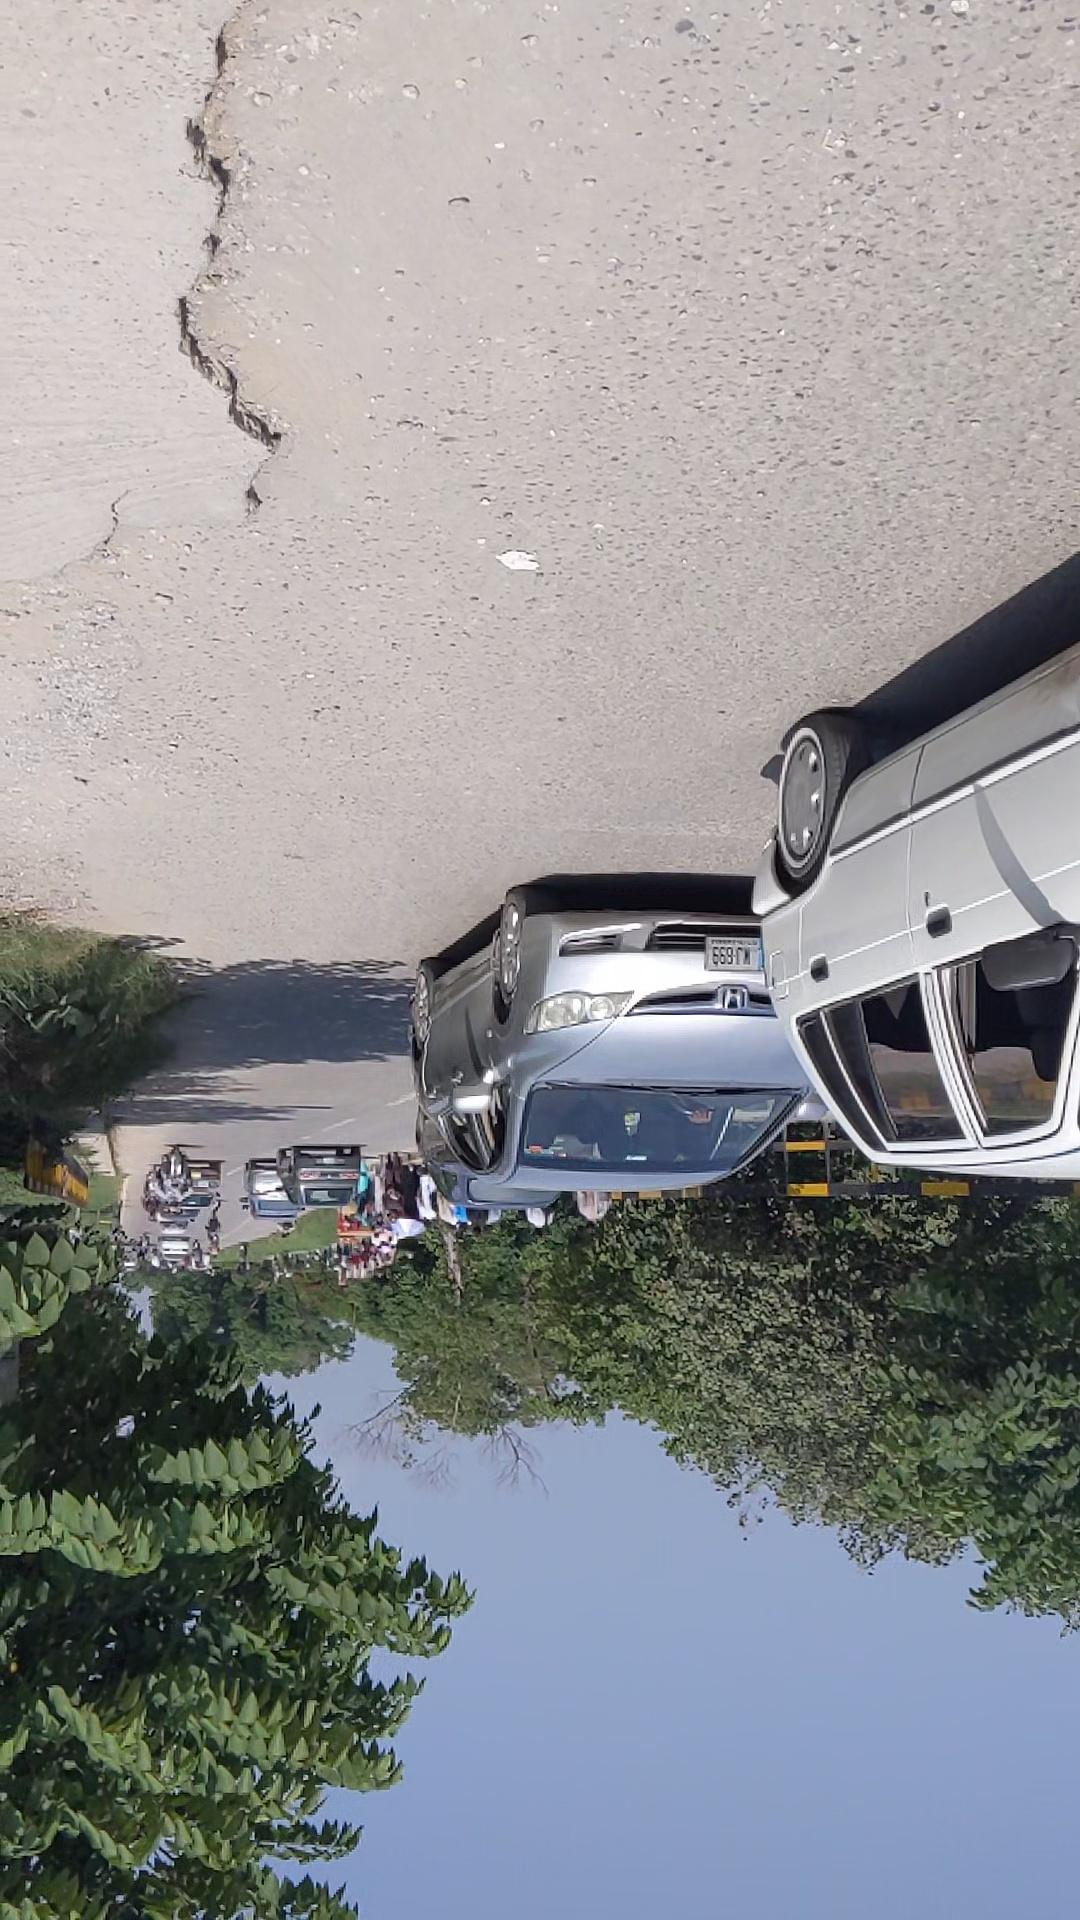windshield: (276, 750, 559, 844)
